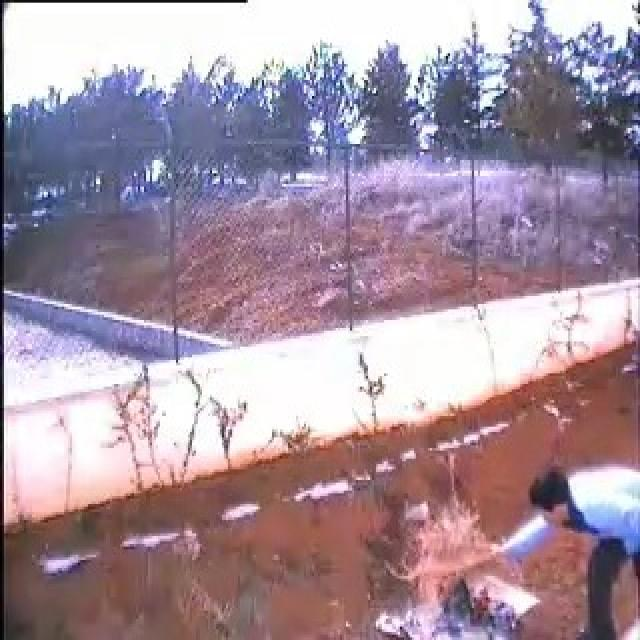fire: (405, 506, 483, 610)
smoke: (386, 482, 407, 528)
